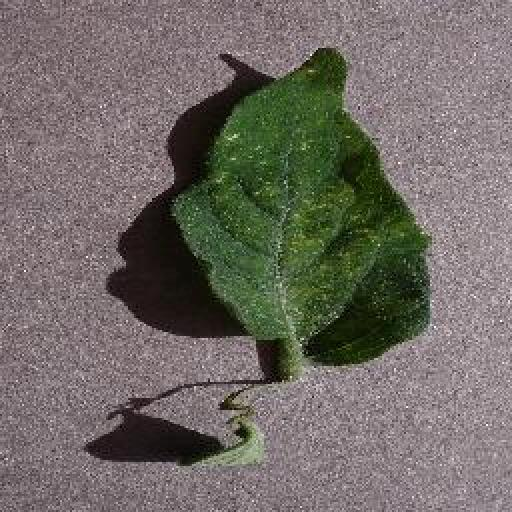Spider Mites: (170, 39, 434, 369)
